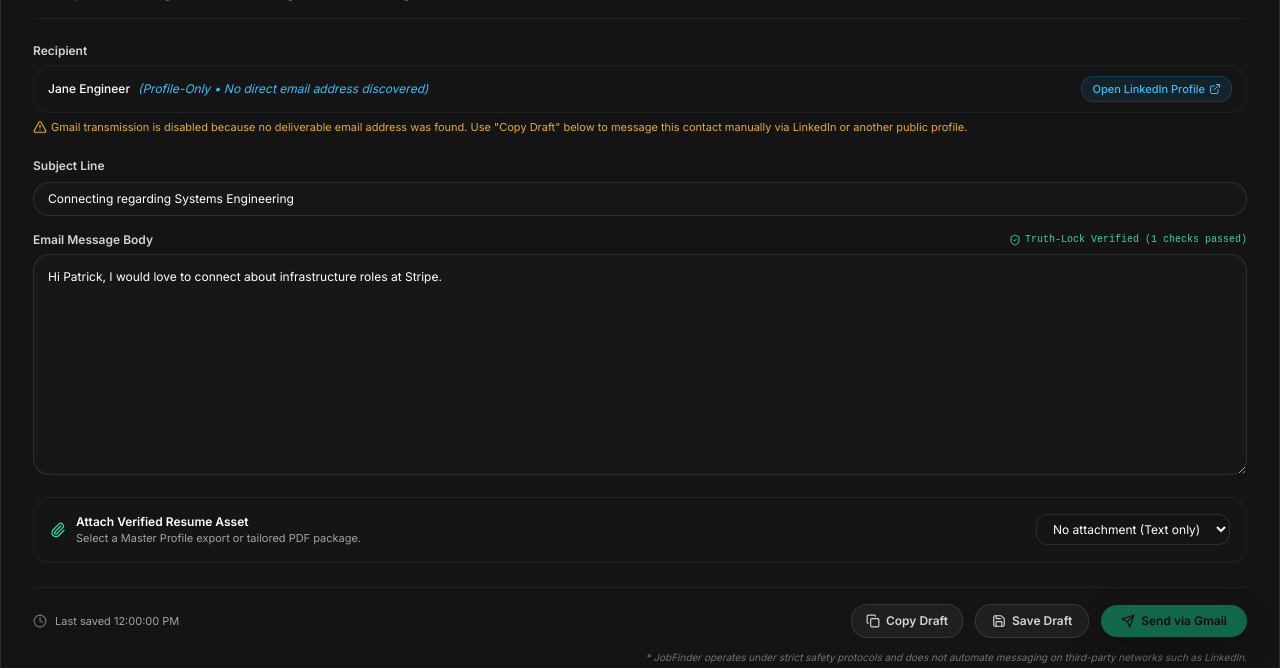
Test case: ContactOutreachPage (Sections C & D) › Task 2.4: Safe Outreach guards disable Gmail send and offer Copy Draft / LinkedIn when contact is profile-only
The width and height of the screenshot is (1280, 668).
(page scrolled)
Expected: the text "(Profile-Only • No direct email address discovered)" is shown, [138, 81, 428, 97]
Expected: the link "Open LinkedIn Profile" is shown, [1082, 76, 1232, 102]
Click the button "Copy Draft" at [907, 621], box [851, 604, 963, 638]
(page scrolled)
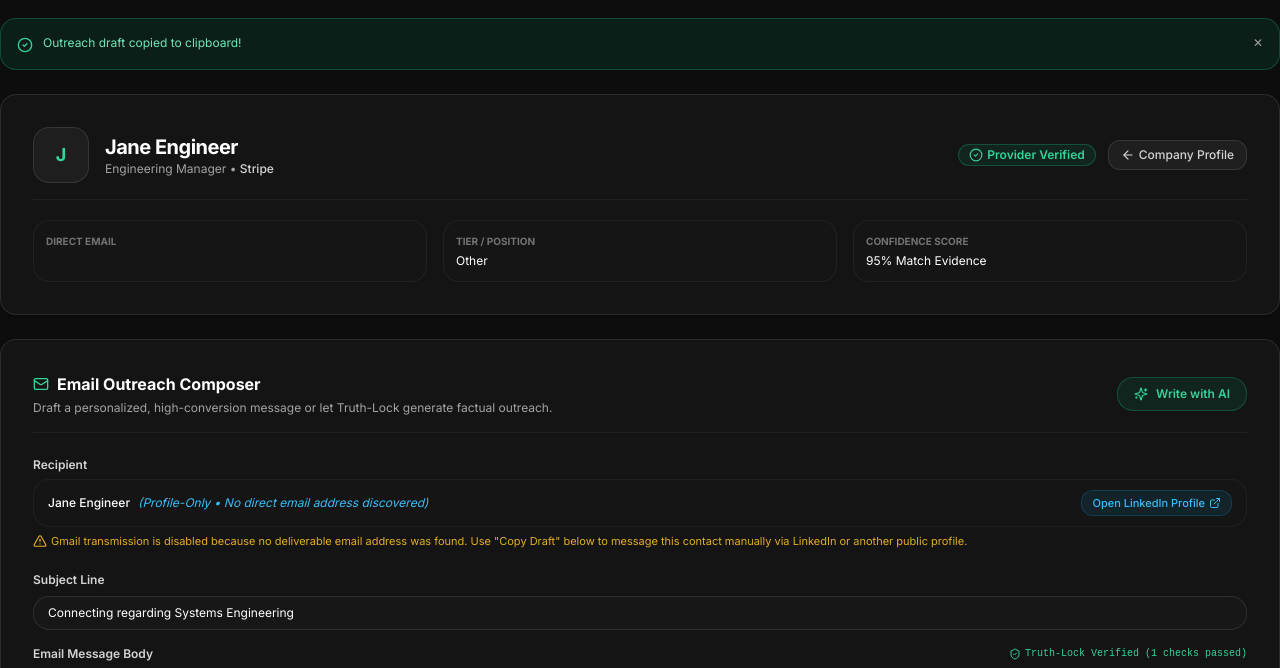
Expected: the text "Outreach draft copied to clipboard!" is shown, [43, 35, 242, 51]
